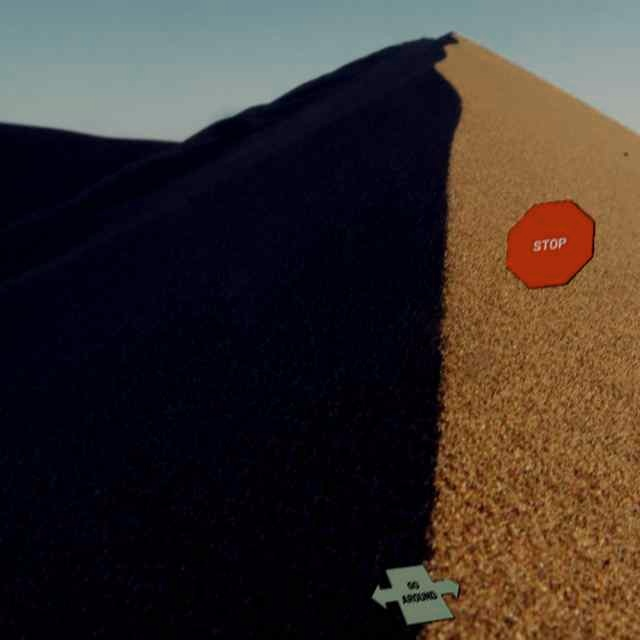GO_AROUND: (370, 564, 460, 626)
STOP: (505, 199, 595, 289)
